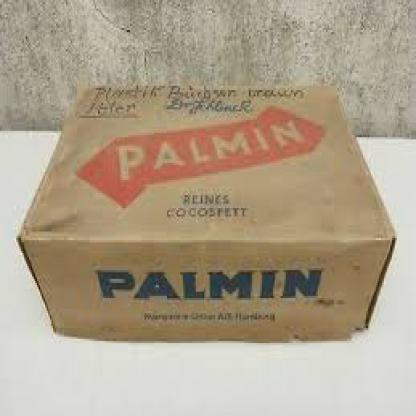CARDBOARD: (16, 79, 394, 341)
